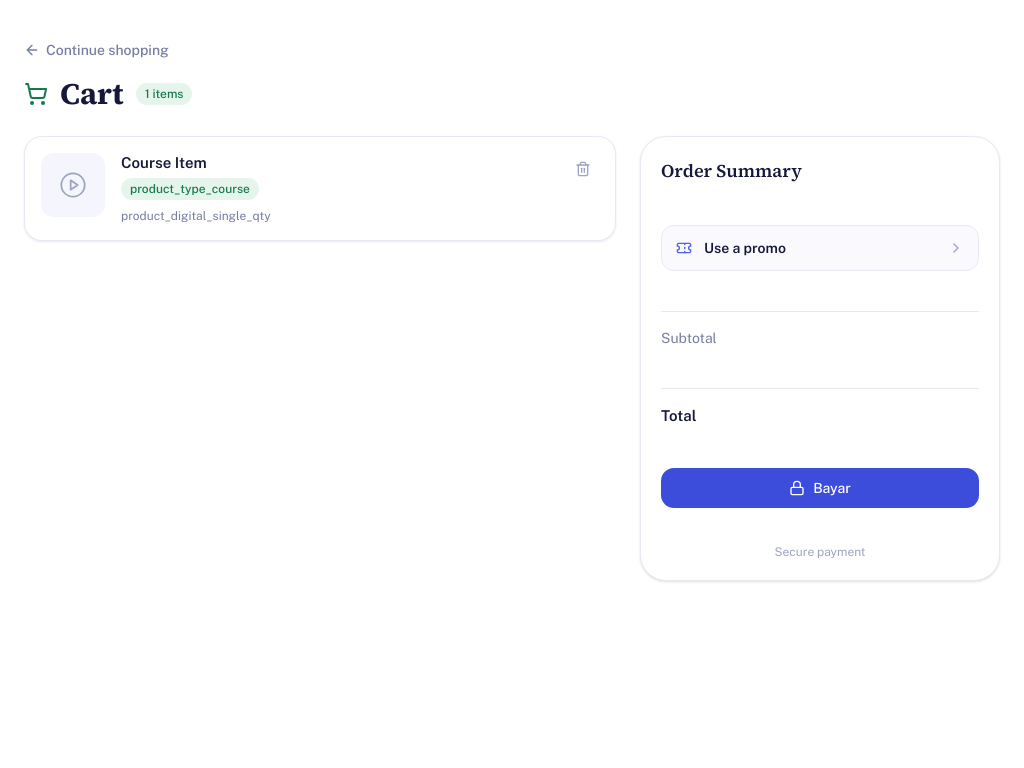
Test: CartPage with Shipping › promo apply/clear › a rejected promo leaves the displayed discount at the server's value and shows the error, never an optimistic value
Click the button "Use a promo".
click(745, 248)  # box [661, 225, 979, 271]
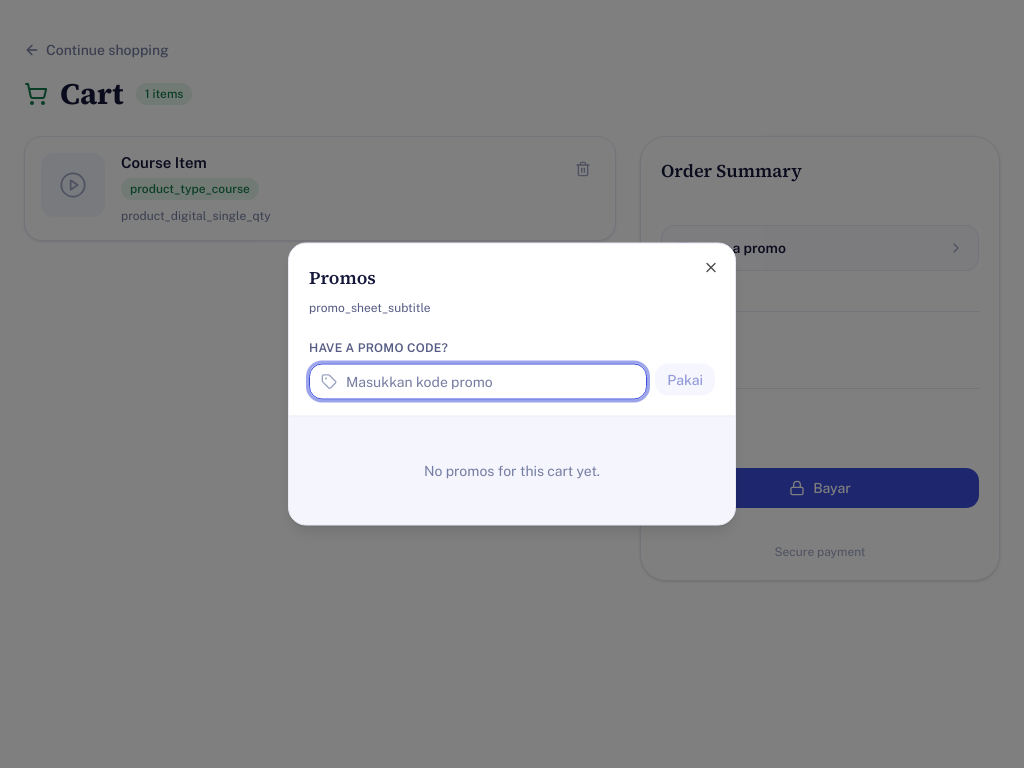
Type "EXPIRED" into the field with placeholder "Masukkan kode promo".
click(478, 382); type("EXPIRED")  # box [309, 364, 647, 400]
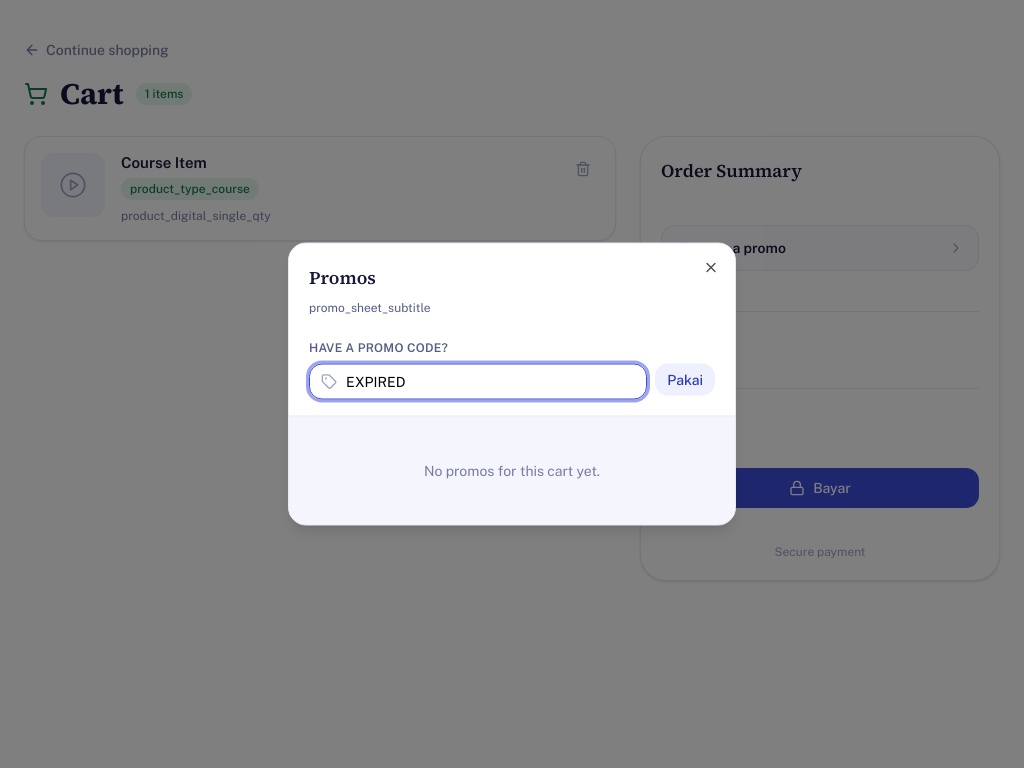
Click the button "Pakai".
click(685, 380)  # box [655, 364, 715, 396]
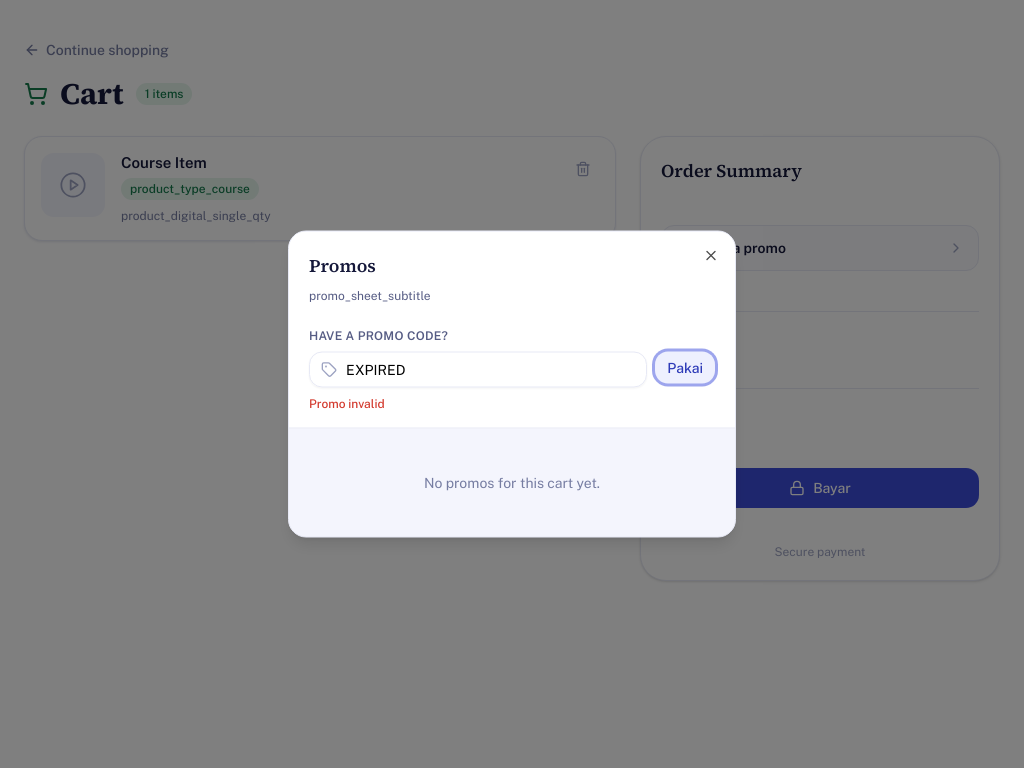
Result: the text "Promo invalid" is shown at [309, 396, 385, 410]
